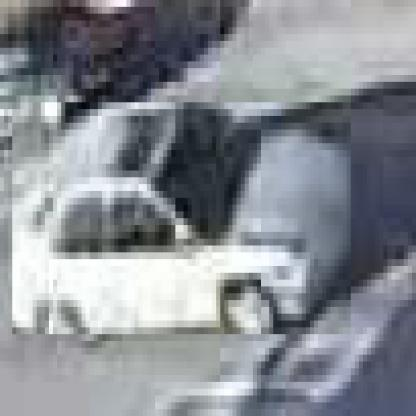car: (9, 103, 352, 342)
